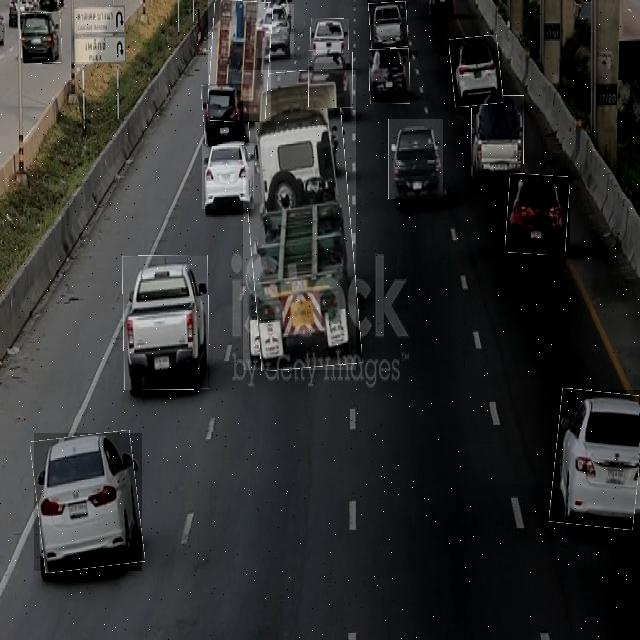Car: (34, 433, 142, 571), (552, 390, 640, 528), (506, 174, 570, 255), (388, 119, 443, 199), (450, 36, 502, 106), (202, 143, 254, 210), (203, 84, 249, 146), (309, 50, 353, 108), (369, 49, 410, 104), (21, 12, 62, 64), (256, 4, 294, 58), (369, 2, 408, 47), (311, 19, 349, 63)
Truck: (243, 70, 356, 370), (123, 256, 208, 390), (208, 0, 271, 121), (472, 95, 524, 176)
